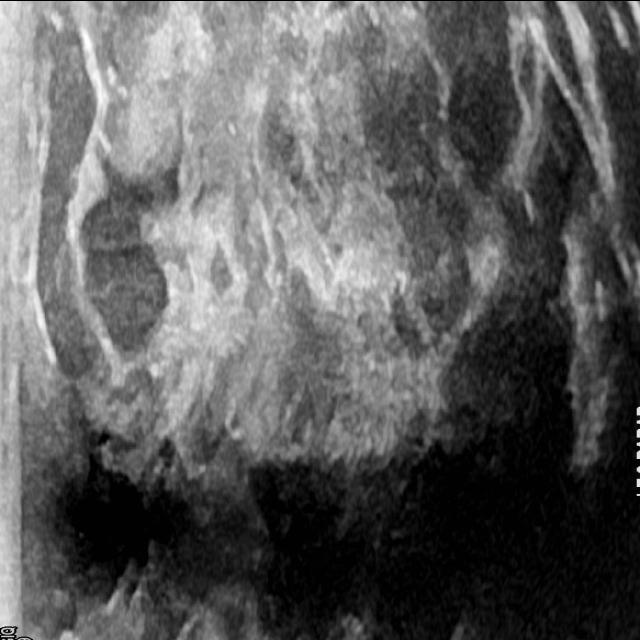Benign: (68, 185, 180, 336)
